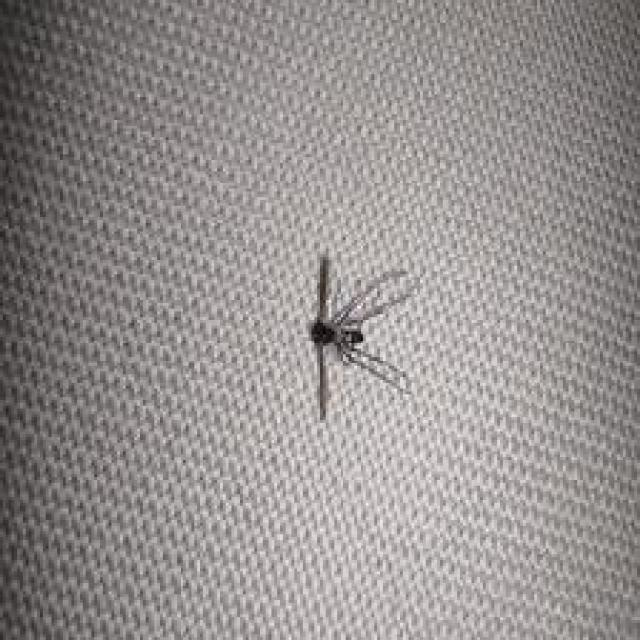Aedes albopictus: (304, 247, 419, 422)
